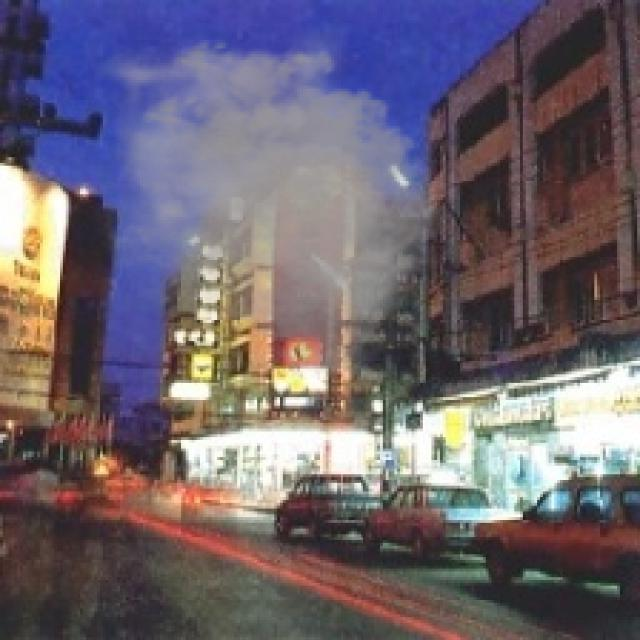smoke: (86, 23, 460, 386)
